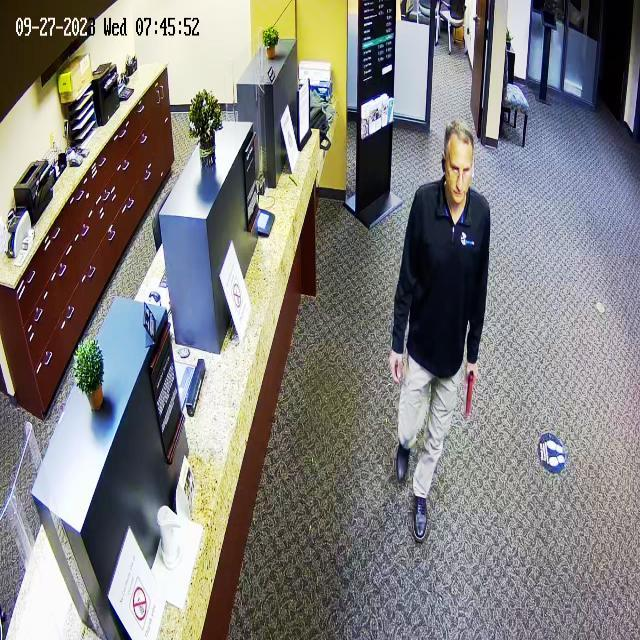Gun: (463, 364, 485, 422)
